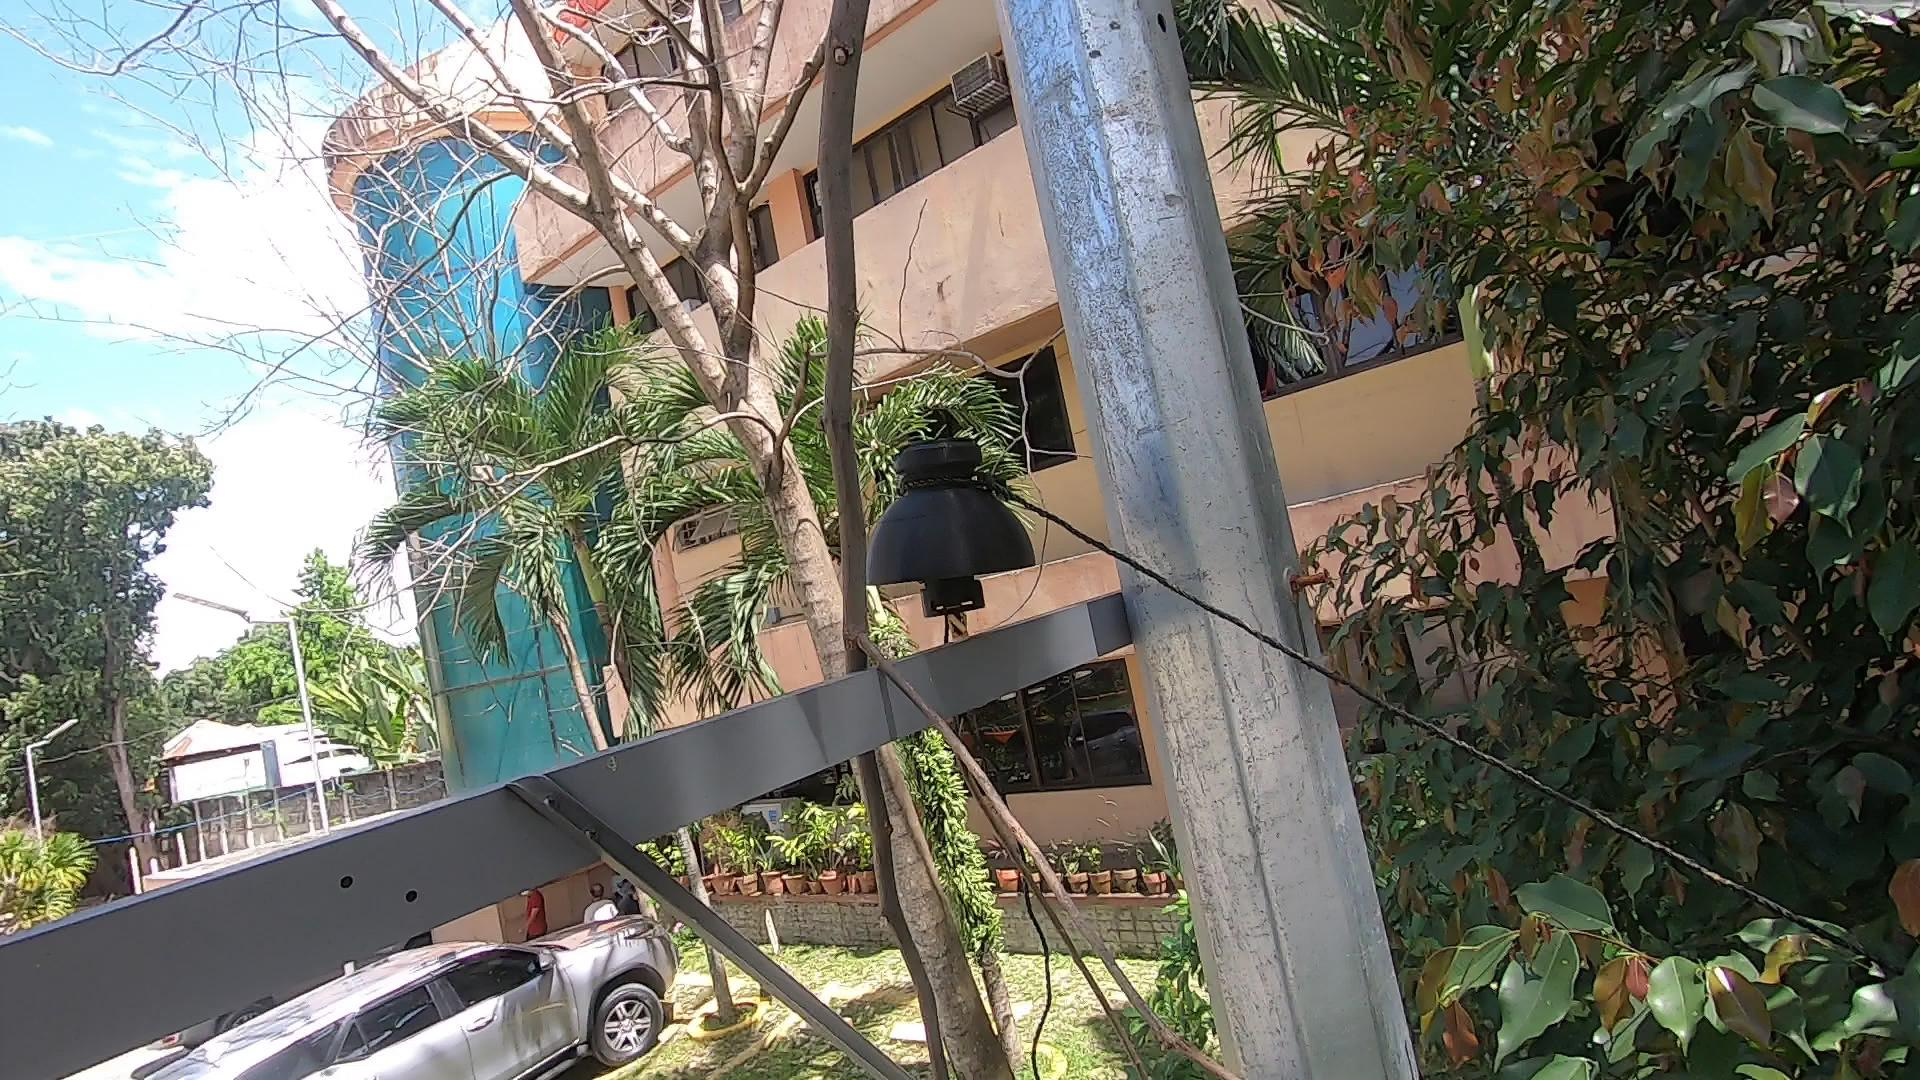tree branch: (713, 9, 1304, 1077)
